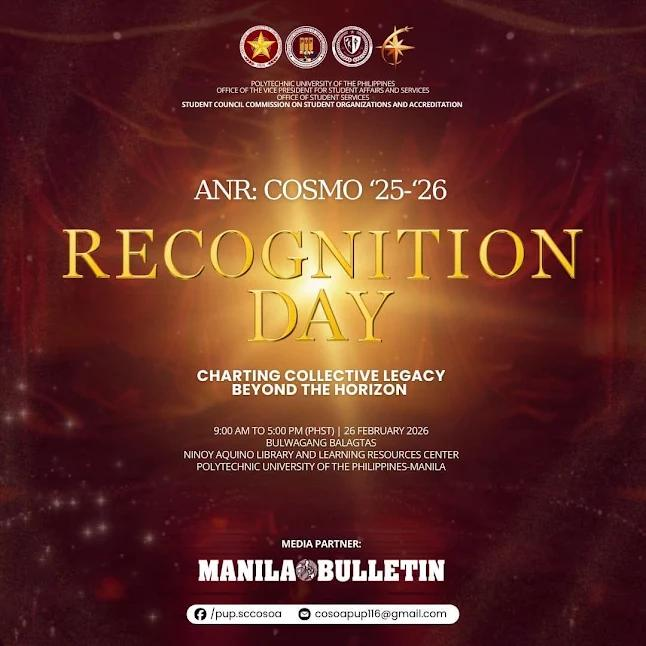embellishment: (193, 607, 209, 622), (297, 607, 312, 621)
logo: (237, 22, 283, 70), (331, 23, 376, 69), (286, 23, 330, 70), (379, 23, 418, 68)
text: (58, 221, 584, 348), (181, 422, 466, 476), (190, 535, 452, 585), (179, 77, 466, 113), (194, 364, 453, 401), (191, 173, 457, 208), (313, 607, 451, 621), (208, 605, 286, 621)
underlay: (186, 604, 460, 624)
